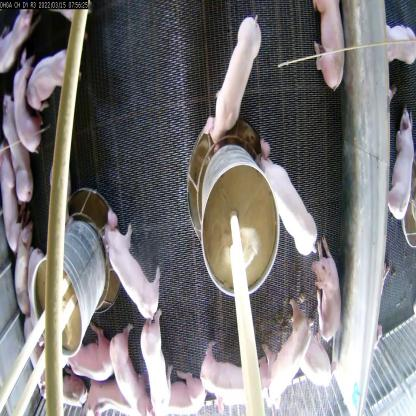Pig: (200, 15, 261, 142), (102, 202, 164, 319), (248, 307, 311, 413), (258, 154, 319, 260), (198, 343, 264, 416), (288, 287, 332, 392), (304, 0, 352, 93), (2, 102, 41, 202), (103, 327, 146, 416), (310, 238, 344, 344), (142, 304, 172, 410), (70, 322, 122, 381), (11, 53, 43, 145), (26, 50, 77, 107), (151, 373, 211, 415), (0, 147, 22, 244), (10, 215, 34, 303)
